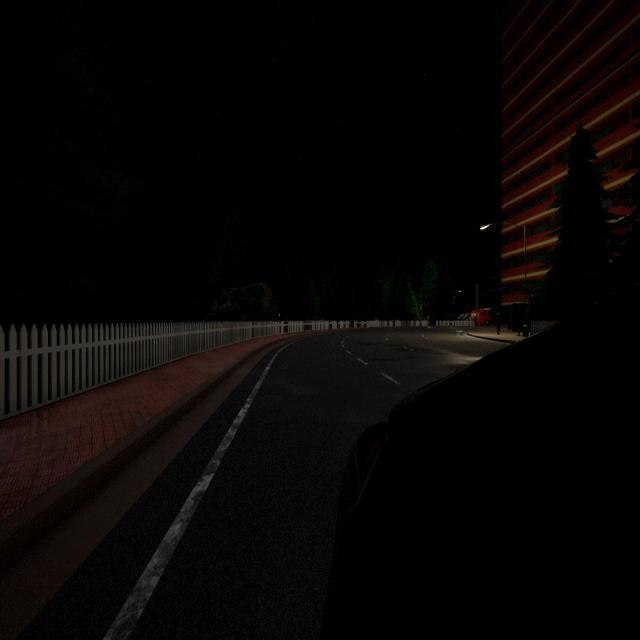Pedestrian: (495, 311, 502, 335)
Vehicle: (326, 282, 640, 640), (470, 308, 492, 327)
